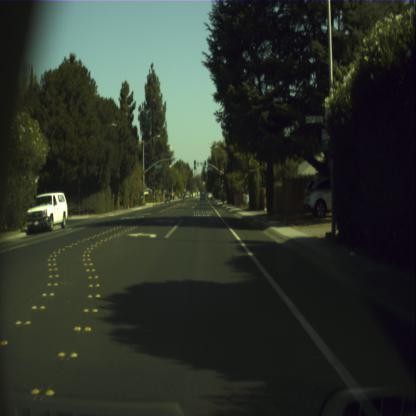Green: (220, 173, 224, 184), (194, 160, 196, 170), (204, 160, 206, 168)
